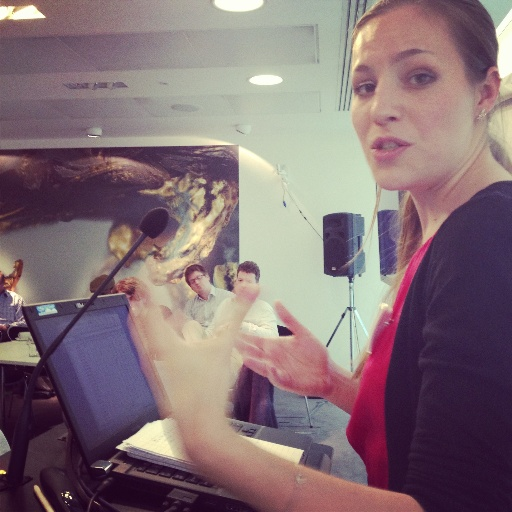hand: (140, 283, 258, 450), (251, 310, 361, 418), (224, 321, 242, 329), (0, 323, 8, 333)
